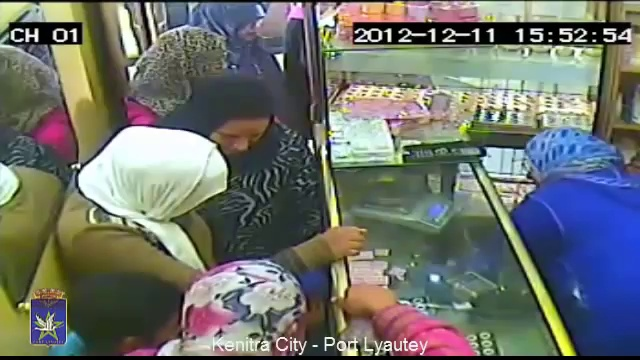face: (213, 117, 263, 152)
